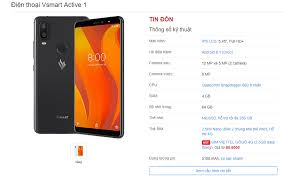vsmart: (31, 13, 125, 138)
